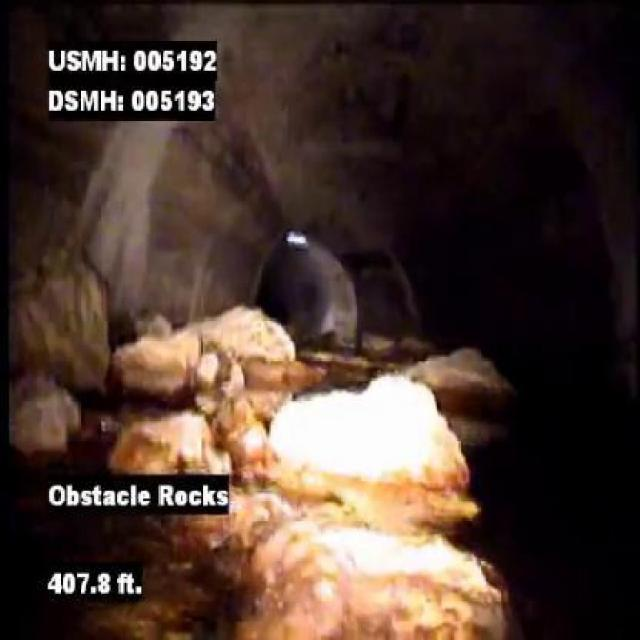Obstacle: (236, 344, 502, 638), (3, 242, 240, 476)
